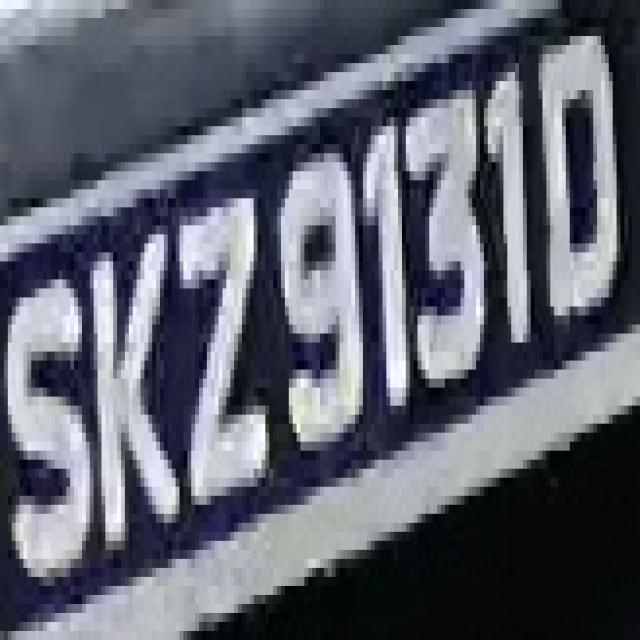1: (480, 90, 539, 388), (363, 108, 414, 451)
3: (406, 63, 484, 424)
9: (273, 144, 367, 469)
D: (531, 9, 624, 352)
K: (90, 189, 176, 568)
S: (8, 243, 90, 622)
Z: (168, 180, 277, 523)
